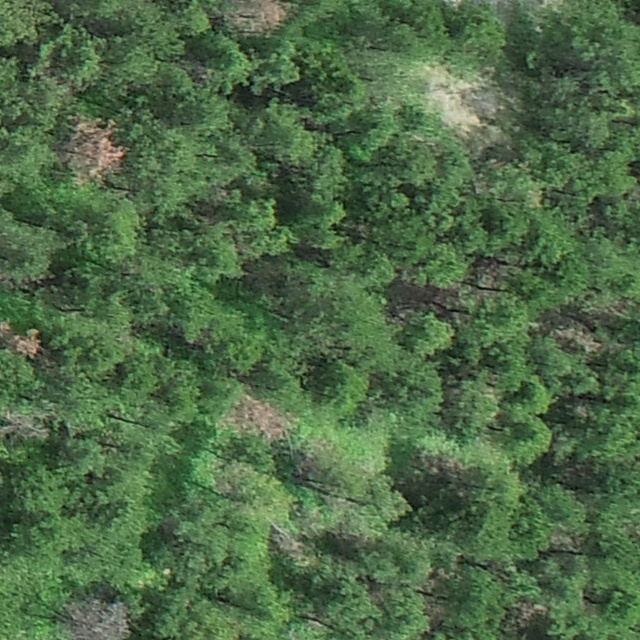unhealthy: (62, 119, 126, 181), (224, 394, 292, 441), (64, 596, 132, 639), (232, 0, 291, 32), (0, 409, 50, 442), (4, 324, 45, 360), (553, 324, 599, 351), (472, 256, 507, 288), (510, 600, 548, 627), (548, 528, 583, 551)
